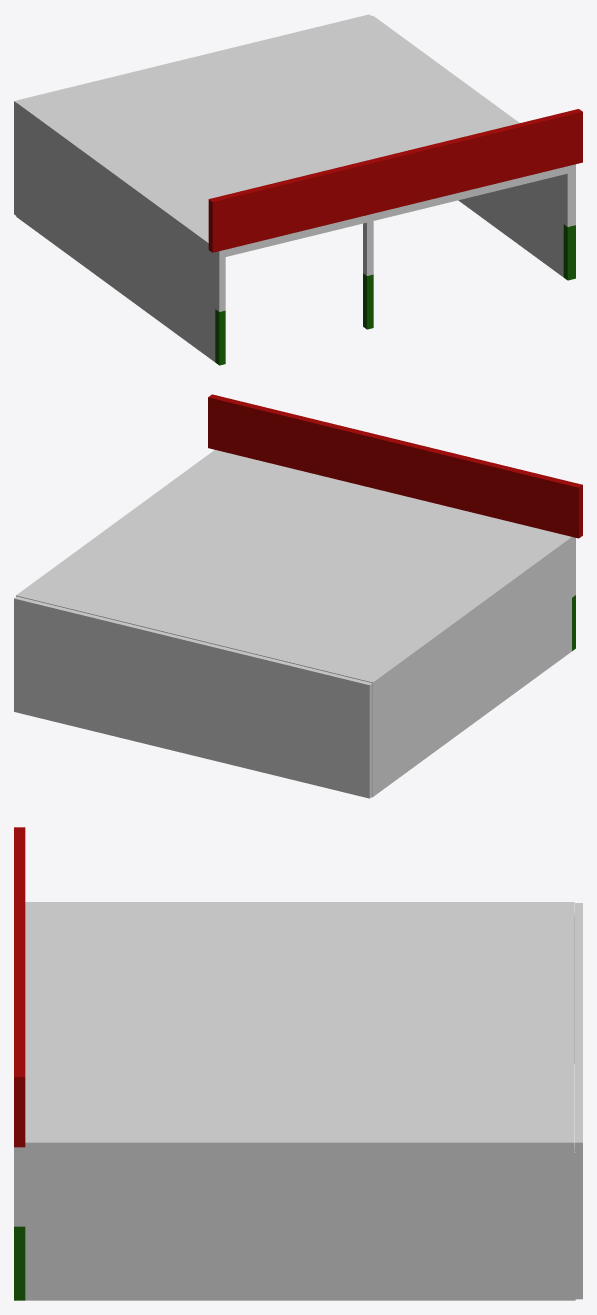
The model's file is loja_12.fbx.
3 renders of one model, top to bottom at view 1: azimuth 30°, elevation 25°; view 2: azimuth 150°, elevation 25°; view 3: azimuth 270°, elevation 25°, orthographic. The views are drawn at different scales.
Parts seen in each view (by area): view 1: Cube; view 2: Cube; view 3: Cube.
Part boxes in pixels (box(x1,y1,x2,y2)): Cube: box(14, 14, 582, 365); Cube: box(14, 394, 582, 798); Cube: box(14, 827, 582, 1300).
Size of the model in its own units: 4296 by 1830 by 4135.
